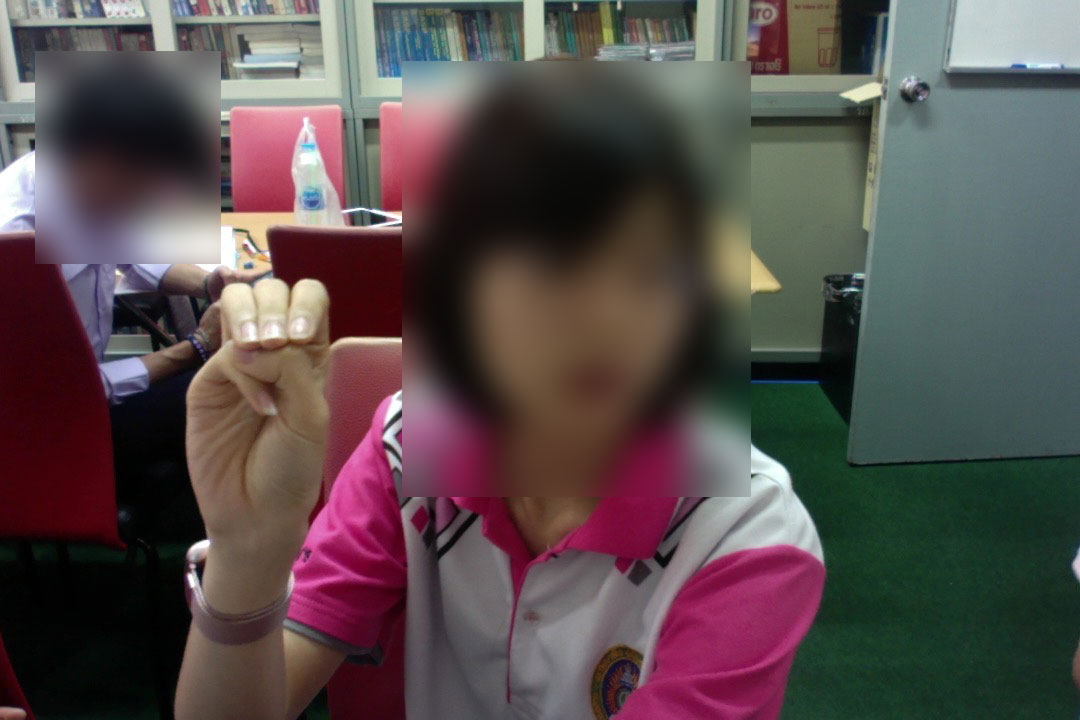mor: (177, 275, 339, 550)
